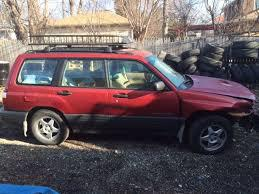bonnet-dent: (192, 75, 243, 96)
fender-dent: (210, 96, 251, 116)
